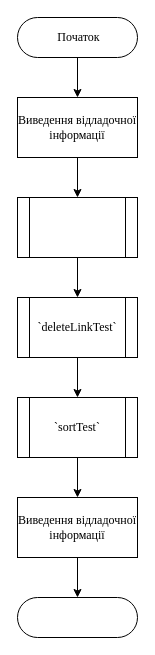
This 155x655 diagram has some shape labels left out. The box of each missing label's shape, as (x1, y1, x2, y2) in pixels:
` insertLinkTest `: (16, 196, 138, 258)
Кінець: (16, 596, 138, 638)
